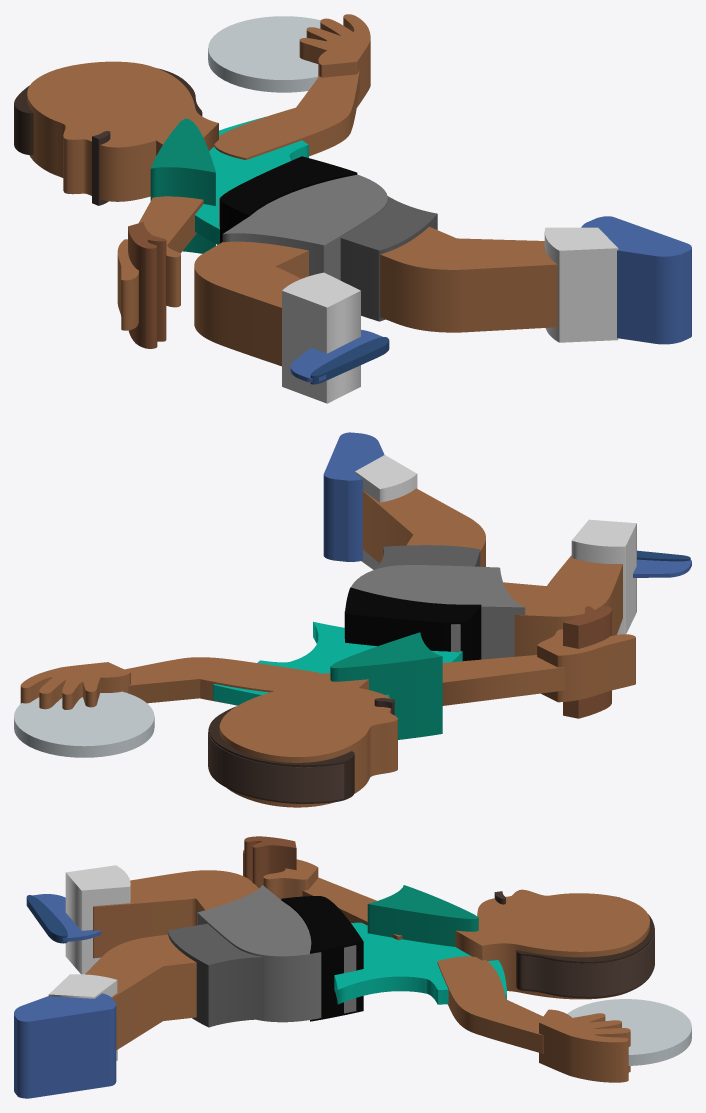
The model's file is emoji_u1f93e_1f3fe_200d_2642.glb.
The picture shows the model from 3 angles, top to bottom: view 1: azimuth 30°, elevation 25°; view 2: azimuth 150°, elevation 25°; view 3: azimuth 270°, elevation 25°; orthographic projection. The views are drawn at different scales.
Visible parts, largest first — view 1: emoji_u1f93e_1f3fe_200d_2642; view 2: emoji_u1f93e_1f3fe_200d_2642; view 3: emoji_u1f93e_1f3fe_200d_2642.
Boxes of the visible parts, x1=… form: emoji_u1f93e_1f3fe_200d_2642: x1=14, y1=14, x2=691, y2=403; emoji_u1f93e_1f3fe_200d_2642: x1=14, y1=432, x2=691, y2=807; emoji_u1f93e_1f3fe_200d_2642: x1=14, y1=836, x2=691, y2=1098.
Bounding box in the file's own units: 0.0225 × 0.0048 × 0.0336.
